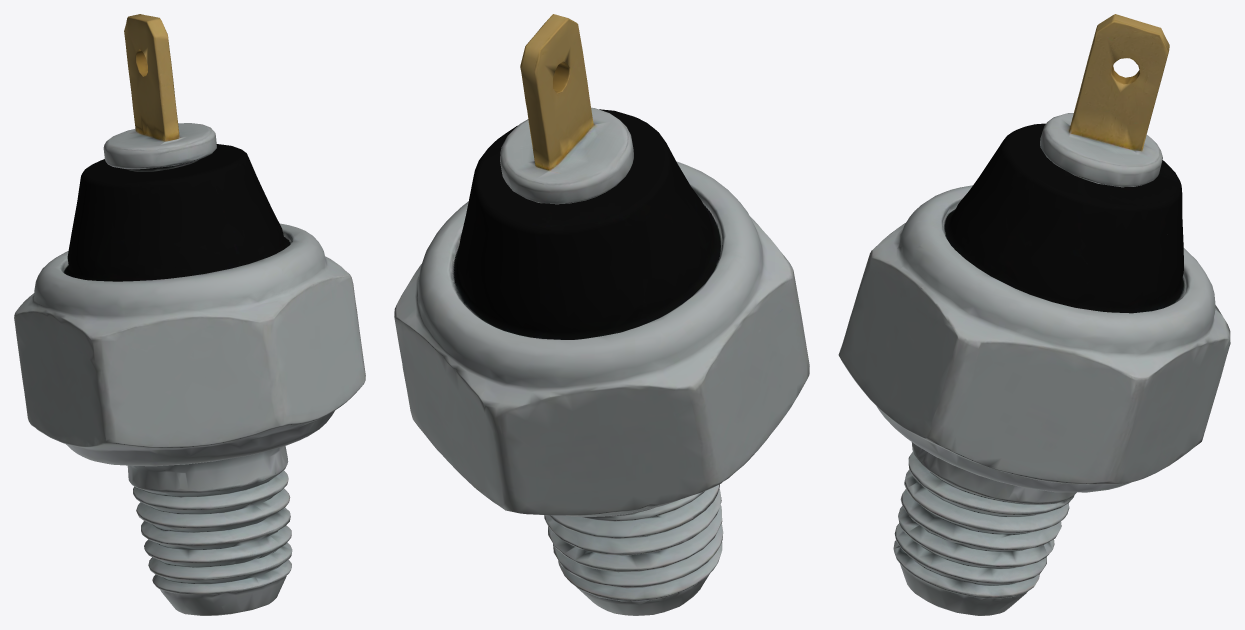
Rendered from oil-press-switch-or-gauge-unit.glb.
3 renders of one model, left to right at view 1: azimuth 30°, elevation 25°; view 2: azimuth 150°, elevation 25°; view 3: azimuth 270°, elevation 25°, orthographic. The views are drawn at different scales.
Parts seen in each view (by area): view 1: tripo_node_a7adfc8a-9fcf-405d-9bf2-797eb4273eb8; view 2: tripo_node_a7adfc8a-9fcf-405d-9bf2-797eb4273eb8; view 3: tripo_node_a7adfc8a-9fcf-405d-9bf2-797eb4273eb8.
Part boxes in pixels (x1,y1,x2,y2): tripo_node_a7adfc8a-9fcf-405d-9bf2-797eb4273eb8: (14, 14, 365, 615); tripo_node_a7adfc8a-9fcf-405d-9bf2-797eb4273eb8: (394, 14, 809, 615); tripo_node_a7adfc8a-9fcf-405d-9bf2-797eb4273eb8: (838, 14, 1230, 615).
Bounding box in the file's own units: 0.5033 × 1 × 0.6074.
Materials: 1 (1 with a texture image).
